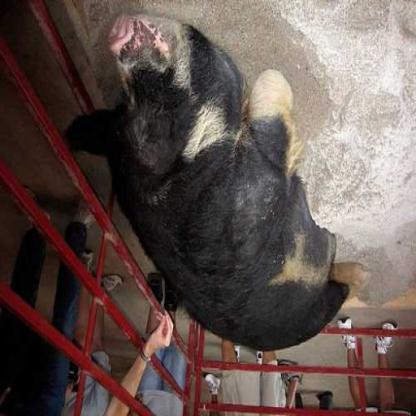boar: (69, 0, 384, 371)
